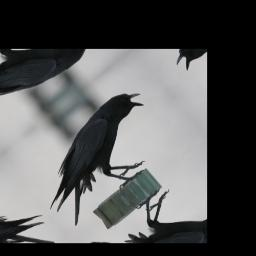Crow: (18, 82, 182, 232)
